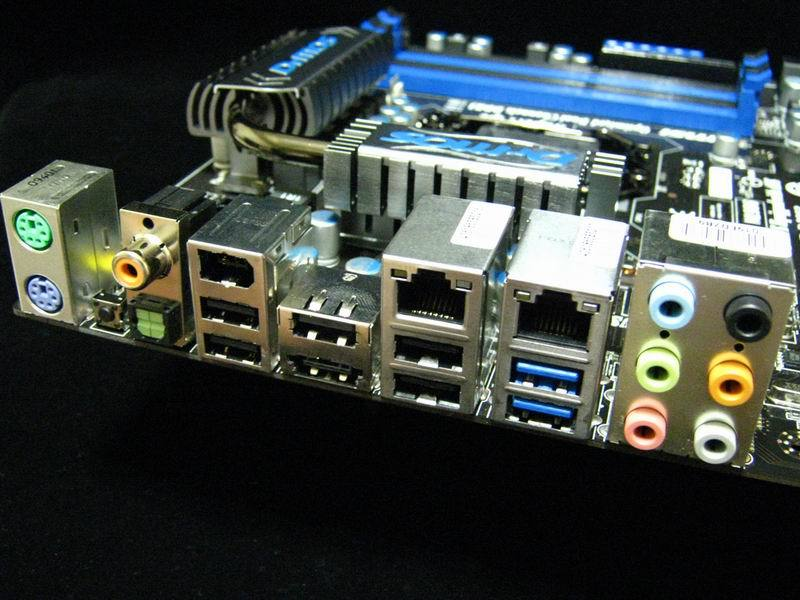Audio: (640, 279, 697, 335), (718, 288, 771, 347), (627, 346, 682, 392), (701, 362, 751, 406)
Ethernet: (385, 258, 476, 334), (513, 278, 597, 357)
USB: (384, 362, 472, 419), (499, 393, 590, 441)
